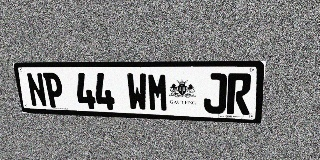4: (93, 73, 115, 110), (74, 73, 96, 109)
J: (204, 73, 227, 114)
M: (147, 73, 169, 112)
N: (26, 73, 48, 107)
P: (43, 73, 65, 108)
R: (226, 73, 252, 115)
W: (126, 73, 148, 111)
